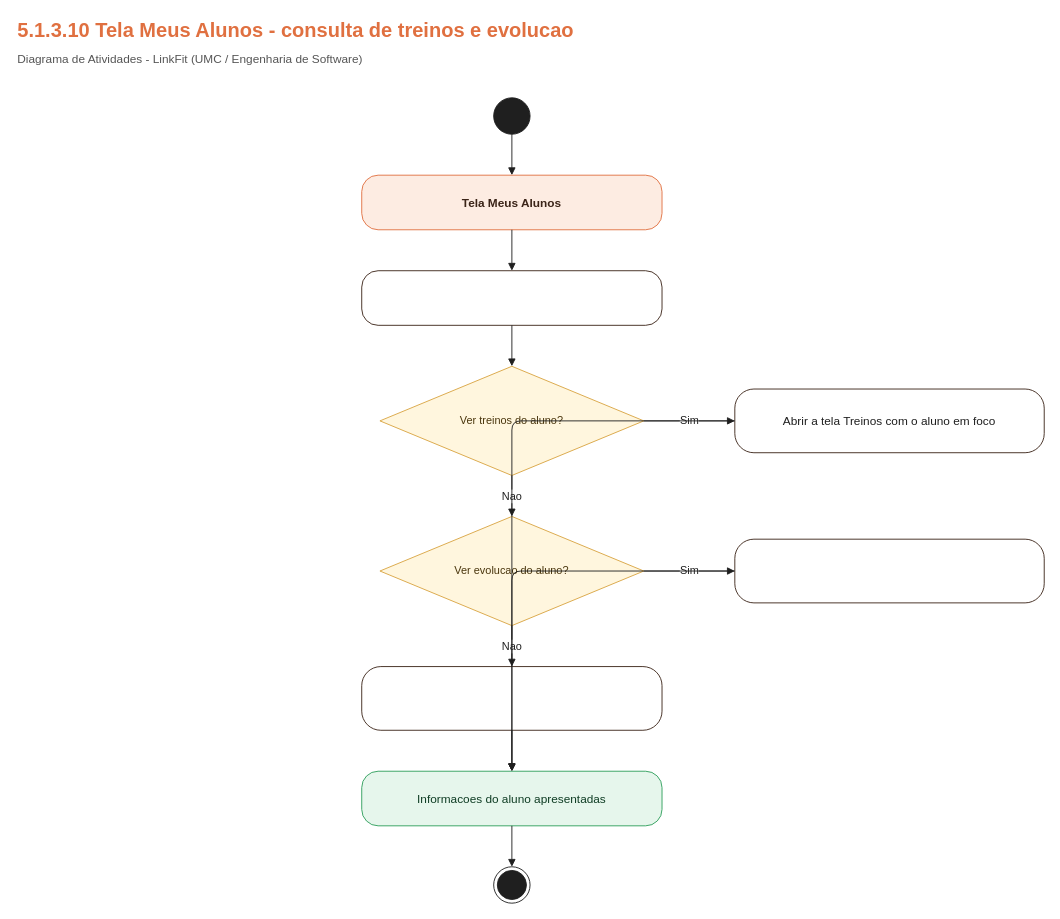
Some shapes in this 1060 by 919 pixel diagram are drawn without their labels. The box of each missing label's shape, as (x1, y1, x2, y2) in pixels:
Abrir a evolucao do aluno (botao 'Voltar para alunos'): (734, 538, 1044, 603)
Exibir o perfil do aluno (sessoes, progresso e contato): (361, 666, 662, 730)
Selecionar o aluno: (361, 270, 662, 325)
